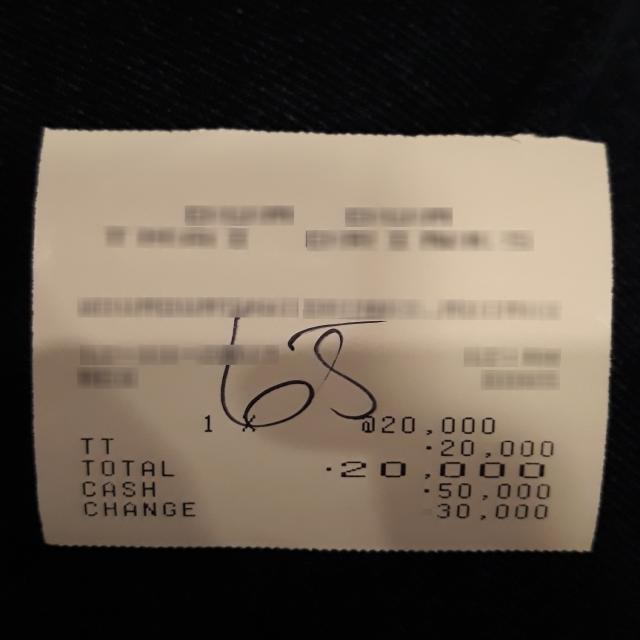kertas: (30, 127, 614, 554)
